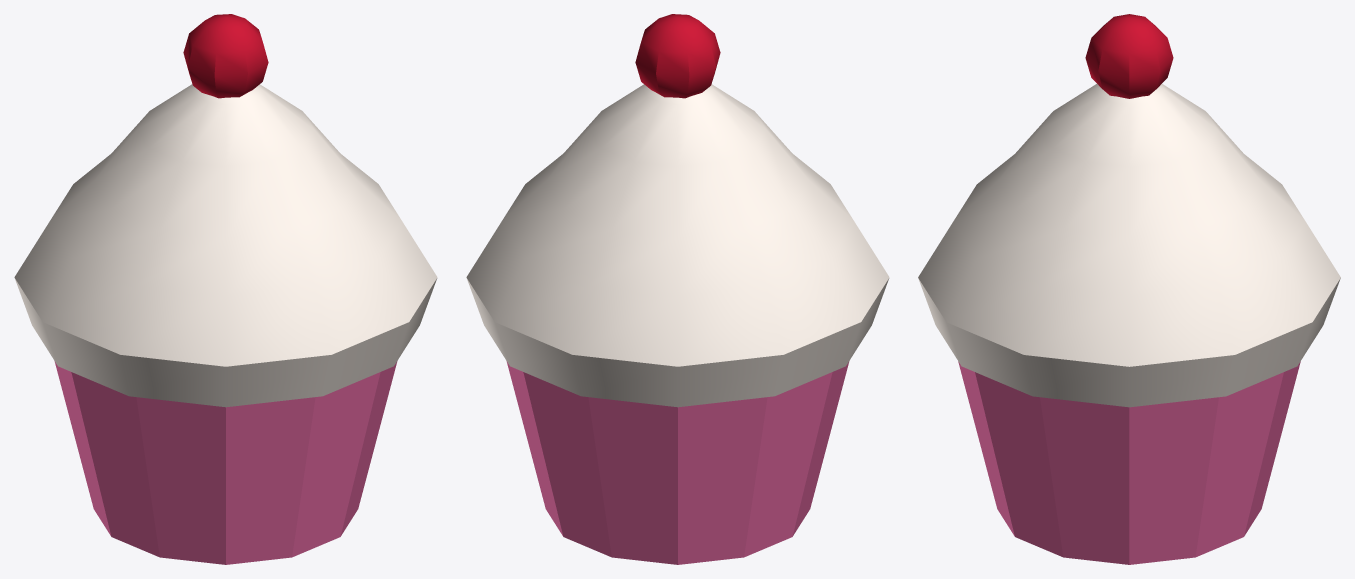
File: Cupcake.fbx
3 renders of one model, left to right at view 1: azimuth 30°, elevation 25°; view 2: azimuth 150°, elevation 25°; view 3: azimuth 270°, elevation 25°, orthographic.
Parts seen in each view (by area): view 1: Cupcake; view 2: Cupcake; view 3: Cupcake.
Part boxes in pixels (x1=…): Cupcake: x1=14, y1=14, x2=437, y2=564; Cupcake: x1=466, y1=14, x2=889, y2=564; Cupcake: x1=918, y1=14, x2=1340, y2=564.
Bounding box in the file's own units: 0.96 × 1.23 × 0.96.
1 material, 1 textured.
